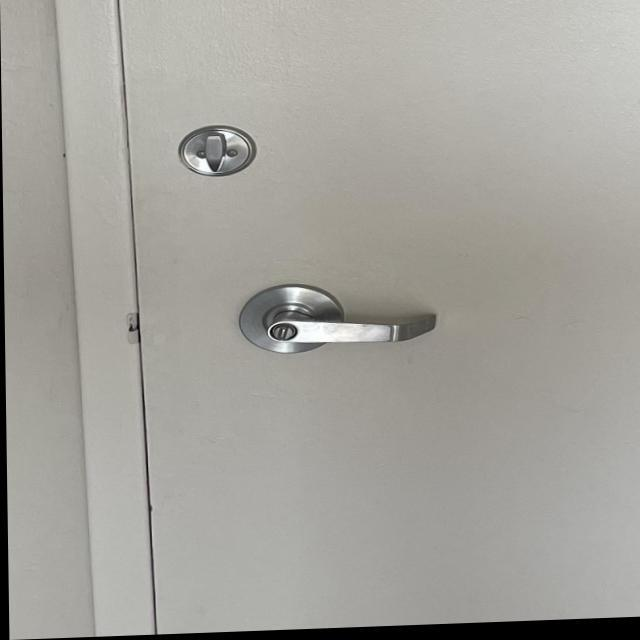door_handle: (222, 299, 459, 374)
